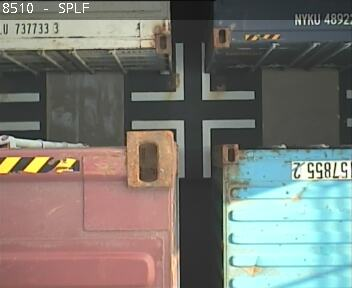groundmarker_1: (130, 42, 255, 101), (131, 119, 256, 177)
